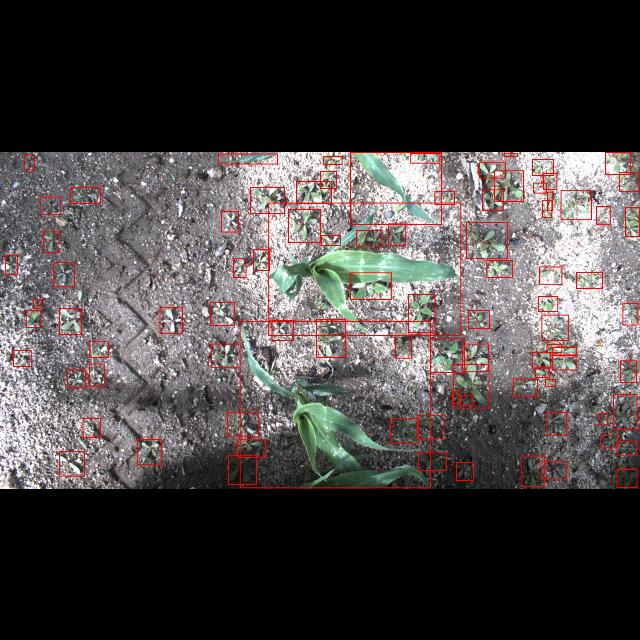crop: (240, 320, 430, 488), (269, 202, 461, 334), (351, 151, 442, 223), (218, 153, 278, 163)
weed: (453, 364, 489, 408), (467, 222, 508, 258), (431, 338, 465, 372), (316, 319, 346, 357), (288, 208, 320, 242), (351, 272, 392, 298), (409, 294, 435, 332), (494, 170, 524, 200), (250, 187, 284, 213), (228, 454, 256, 484), (561, 190, 591, 218), (613, 394, 637, 428), (296, 181, 332, 203), (462, 343, 488, 371), (228, 412, 258, 436), (542, 314, 568, 340), (391, 418, 419, 442), (522, 456, 544, 486), (60, 450, 84, 476), (418, 415, 444, 439), (212, 344, 240, 366), (137, 440, 161, 464), (211, 301, 235, 325), (59, 308, 81, 334), (160, 307, 182, 333), (606, 151, 630, 173), (237, 439, 265, 457), (418, 452, 446, 470), (70, 186, 100, 202), (54, 262, 74, 286), (272, 320, 294, 340), (547, 412, 567, 434), (394, 334, 412, 358), (542, 461, 566, 479), (513, 378, 537, 396), (482, 189, 503, 209), (487, 260, 513, 276), (479, 161, 505, 177), (576, 272, 602, 288), (356, 229, 382, 245), (625, 207, 639, 236), (540, 266, 562, 284), (468, 310, 490, 328), (388, 223, 406, 245), (552, 354, 576, 370), (41, 196, 61, 214), (82, 418, 100, 438), (617, 469, 637, 487), (619, 172, 639, 190), (254, 248, 270, 270), (222, 210, 238, 232), (620, 360, 636, 382), (622, 302, 638, 324), (532, 158, 554, 174), (67, 369, 85, 387), (456, 462, 474, 480), (44, 230, 58, 252), (90, 363, 104, 385), (410, 152, 440, 162), (90, 341, 108, 357), (320, 170, 336, 188), (13, 350, 31, 366), (532, 352, 550, 368), (538, 296, 558, 310), (434, 190, 454, 204), (617, 441, 637, 455), (600, 434, 618, 448), (596, 206, 610, 224), (5, 254, 17, 274), (552, 346, 576, 356), (232, 258, 245, 276), (26, 310, 40, 326), (543, 172, 557, 188), (322, 235, 341, 245), (542, 200, 552, 217), (534, 367, 550, 377), (323, 155, 342, 163), (24, 154, 34, 168), (461, 395, 474, 405), (546, 344, 562, 352), (534, 182, 546, 192), (598, 413, 608, 425), (452, 391, 460, 403), (34, 298, 42, 308), (548, 190, 552, 210), (545, 378, 555, 386), (504, 152, 518, 156)
